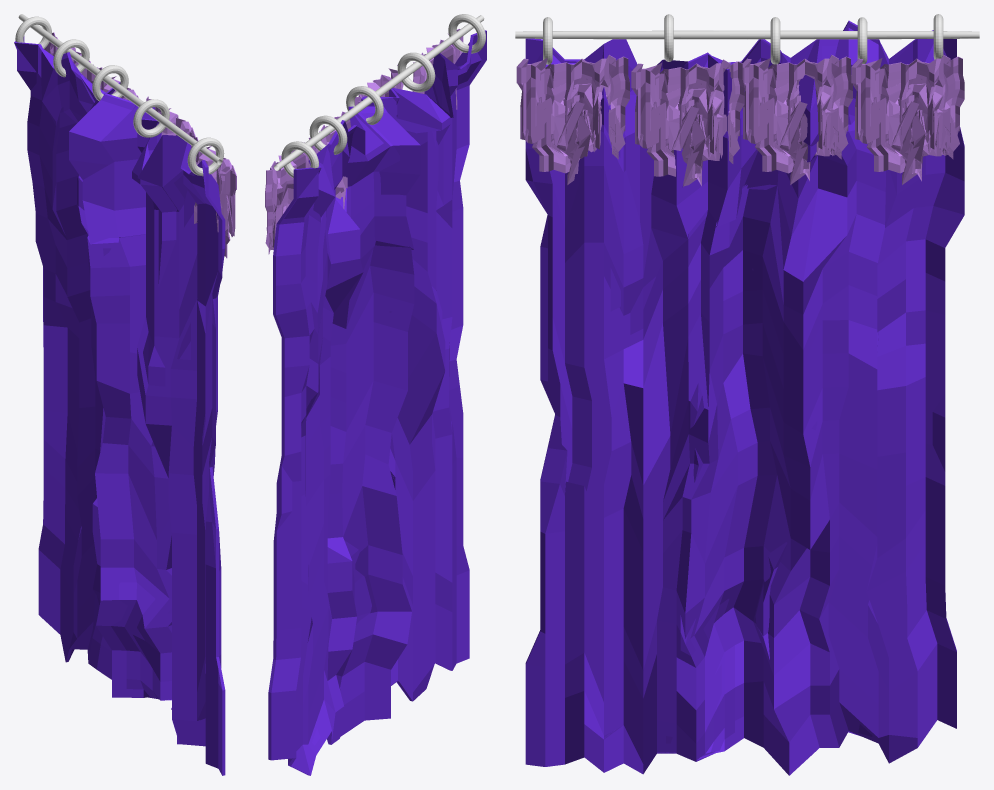
Rendered from curtain.fbx.
The picture shows the model from 3 angles, left to right: view 1: azimuth 30°, elevation 25°; view 2: azimuth 150°, elevation 25°; view 3: azimuth 270°, elevation 25°; orthographic projection. The views are drawn at different scales.
Visible parts, largest first — view 1: Cube, Cube.001, Torus.005, Torus.001, Torus, Torus.003, Torus.002, Torus.004, Cube.002; view 2: Cube, Cube.004, Torus.005, Torus.001, Torus, Torus.003, Torus.002, Cube.001, Torus.004, Cube.003, Cube.002; view 3: Cube, Cube.004, Cube.002, Cube.001, Cube.003, Torus.005.
Part boxes in pixels (x1,y1,x2,y2): Cube: (14,36,225,775); Cube.001: (188,134,236,258); Torus.005: (18,14,222,164); Torus.001: (133,99,169,137); Torus: (187,137,224,176); Torus.003: (53,39,89,77); Torus.002: (92,65,128,101); Torus.004: (15,16,51,48); Cube.002: (146,96,195,137); Cube: (268,30,486,775); Cube.004: (265,137,315,254); Torus.005: (274,15,484,170); Torus.001: (397,52,435,92); Torus: (448,14,485,53); Torus.003: (309,115,347,154); Torus.002: (346,86,383,124); Cube.001: (412,29,463,109); Torus.004: (281,141,318,177); Cube.003: (315,101,361,208); Cube.002: (354,64,403,105); Cube: (525,20,964,775); Cube.004: (851,54,964,184); Cube.002: (631,59,744,186); Cube.001: (516,55,629,184); Cube.003: (742,55,852,184); Torus.005: (515,30,979,39).
Bounding box in the file's own units: 1217 × 7326 × 4121.
